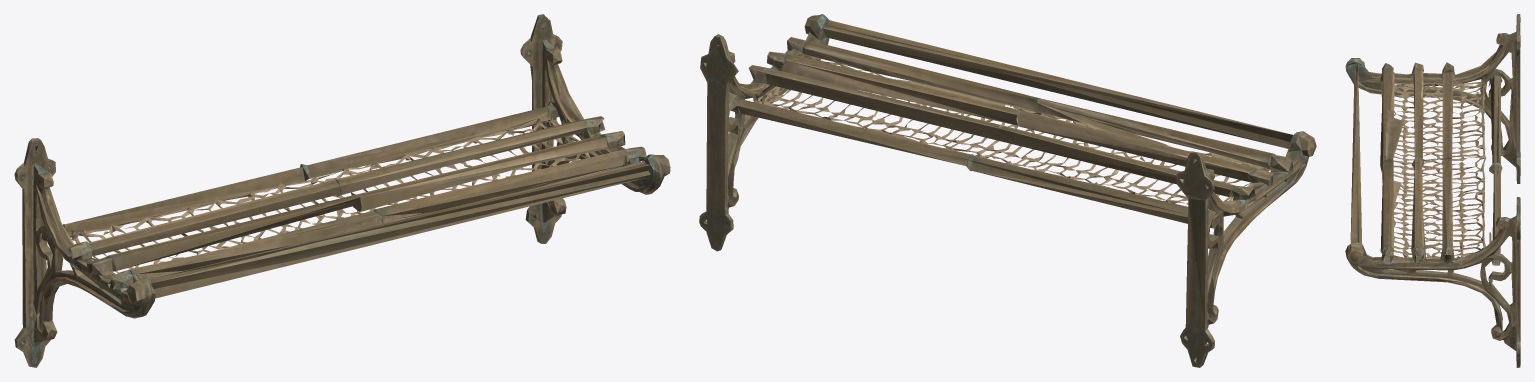
Rendered from rack.glb.
The picture shows the model from 3 angles, left to right: view 1: azimuth 30°, elevation 25°; view 2: azimuth 150°, elevation 25°; view 3: azimuth 270°, elevation 25°; orthographic projection. The views are drawn at different scales.
Visible parts, largest first — view 1: Mesh_0; view 2: Mesh_0; view 3: Mesh_0.
Boxes of the visible parts, x1,y1,x2,y2 form: Mesh_0: (14,14,670,367); Mesh_0: (699,14,1316,367); Mesh_0: (1345,14,1520,367).
Bounding box in the file's own units: 1.9 × 0.7618 × 0.7146.
1 material, 1 textured.
